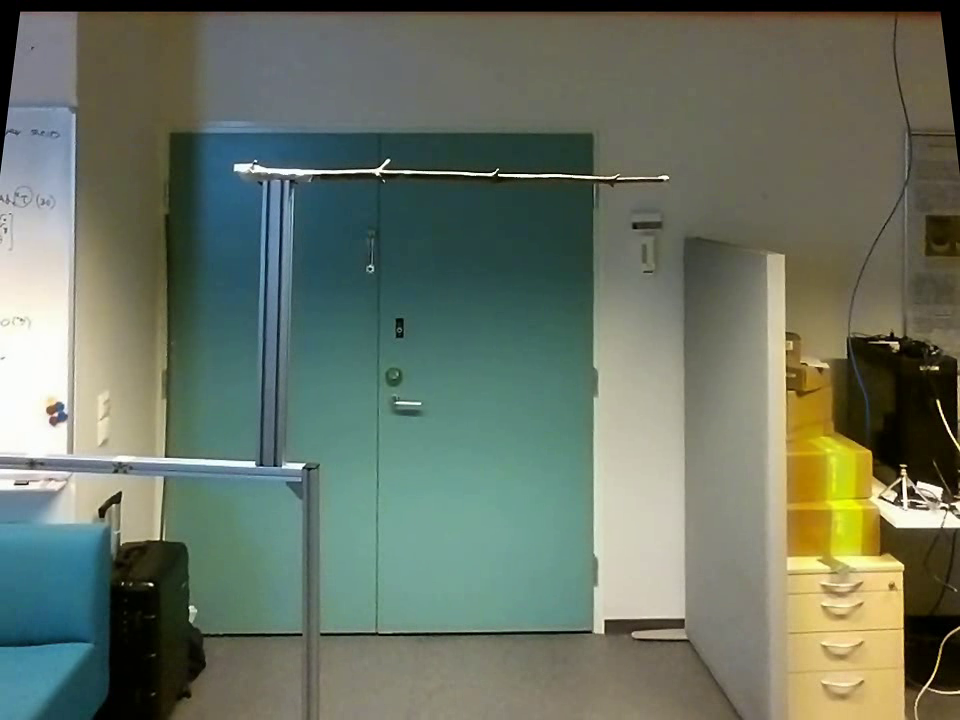aluminum_frame: (251, 183, 293, 469), (1, 448, 303, 485), (57, 99, 82, 482), (296, 453, 327, 717), (6, 100, 87, 116)
branch: (316, 153, 655, 200)
